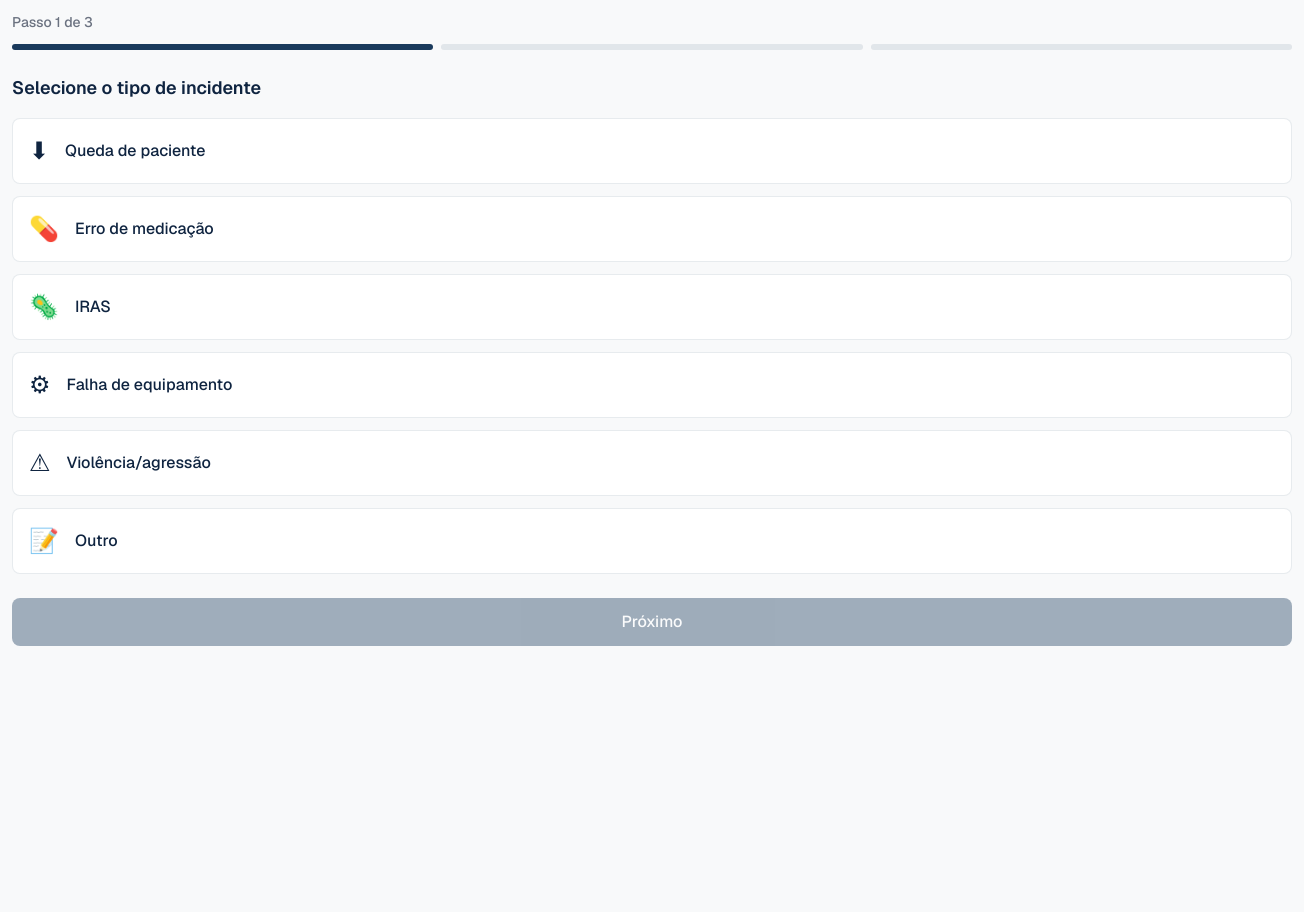
Test: FormularioNotificacao › avanca para passo 2 apos selecionar categoria
Click the text "Queda de paciente" at (135, 151), box [65,139,205,163]
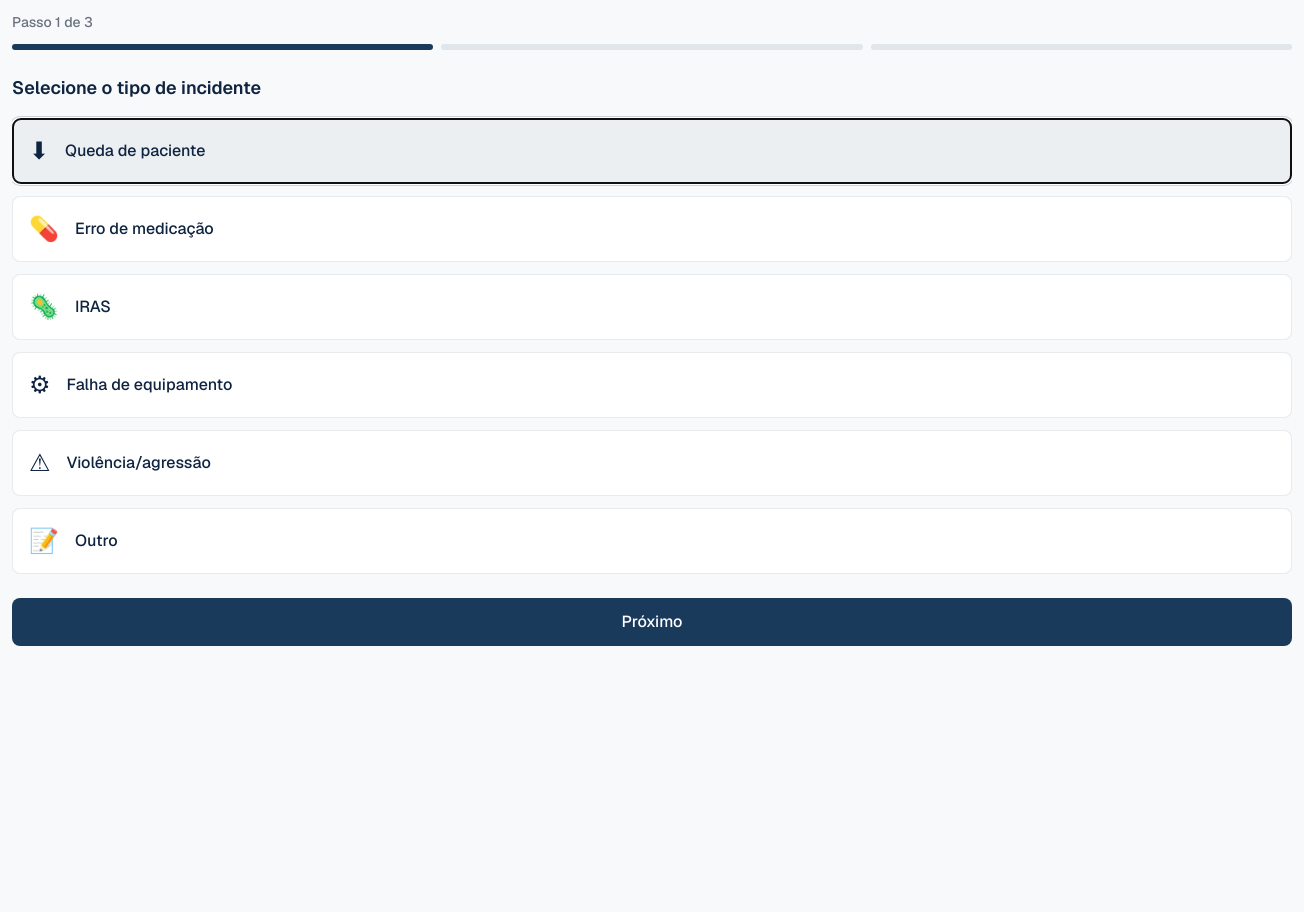
Click the button "Próximo" at (652, 622), box [12,598,1292,646]
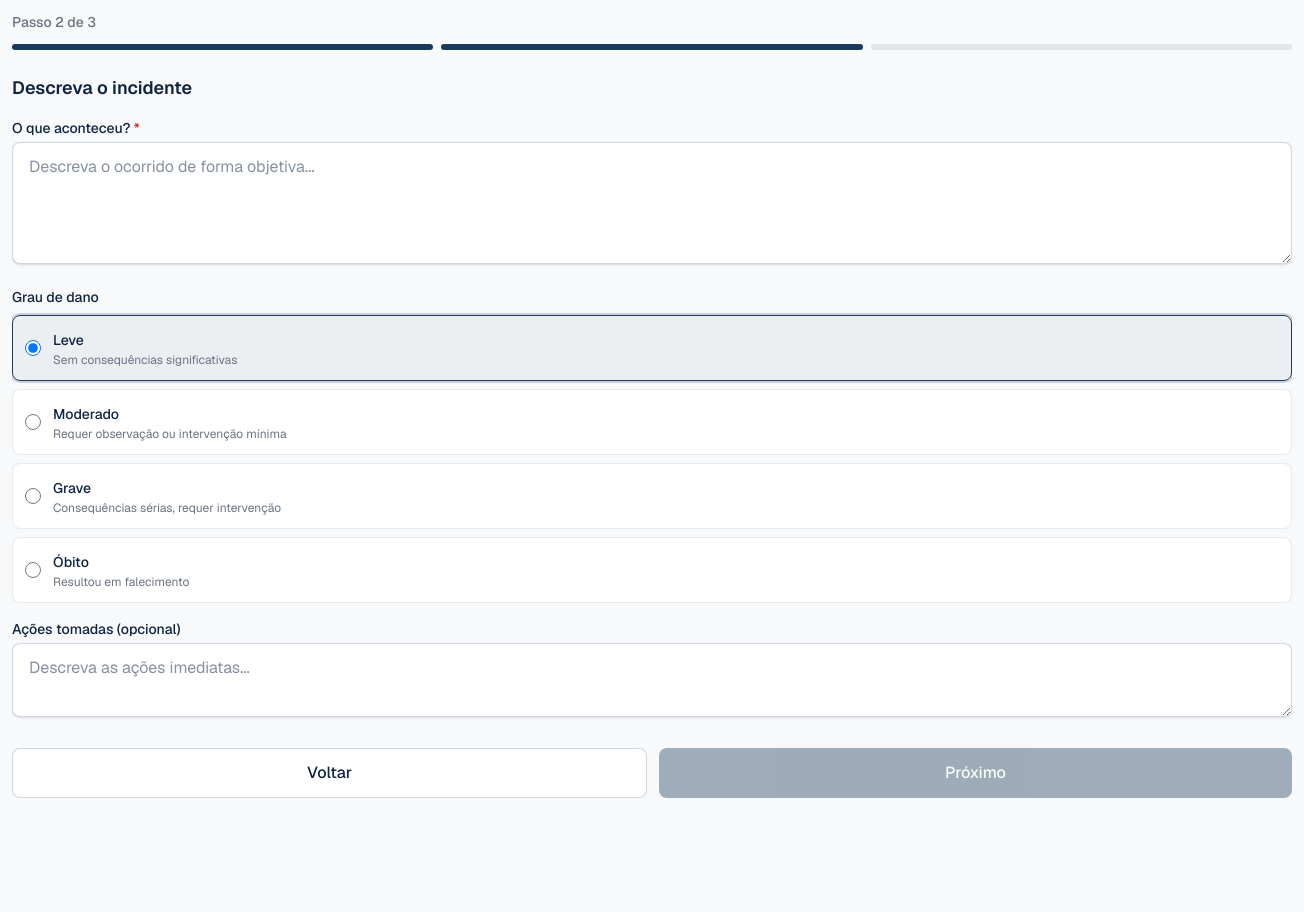
Now the text "Passo 2 de 3" is shown, box [12,13,96,31]
Now the text "O que aconteceu?" is shown, box [12,119,134,137]
